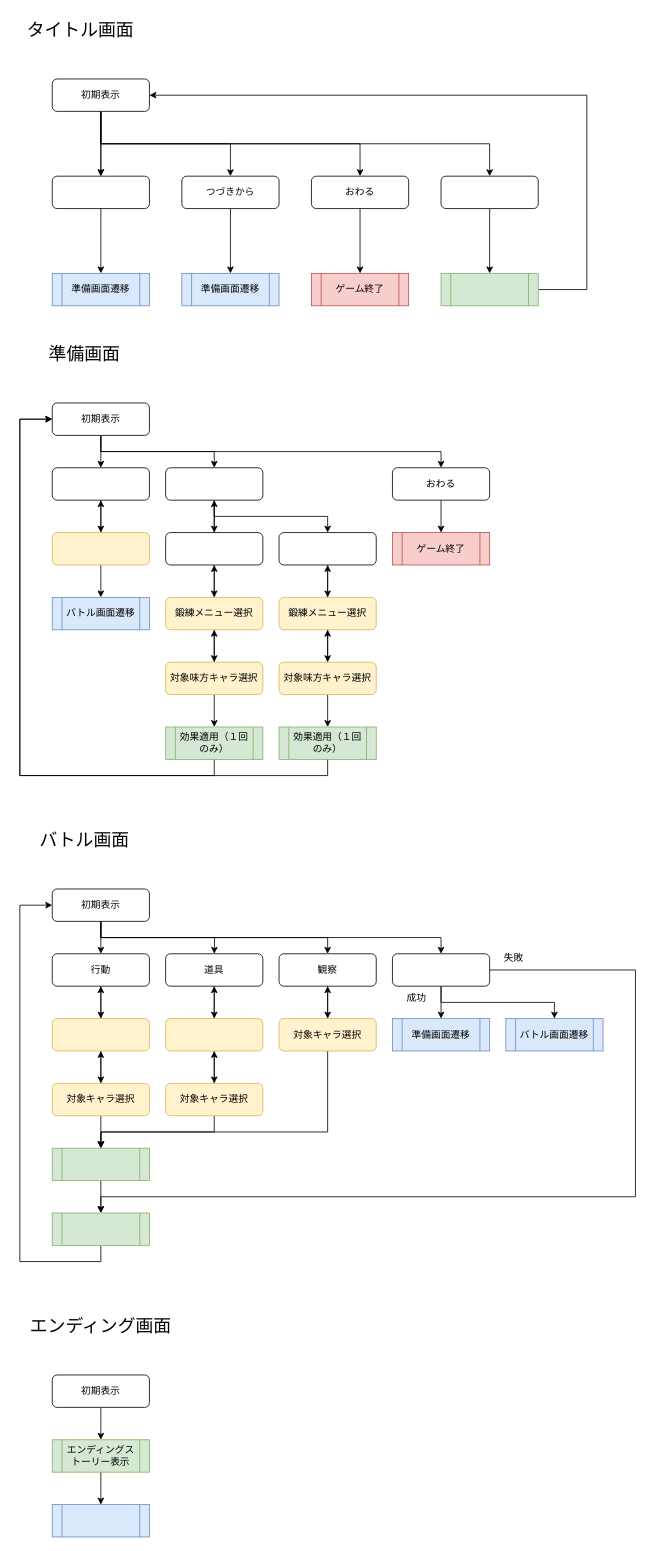
Image size: 656x1551. Some labels were removed from this diagram. Each missing label, with the centre of its shape:
にげる: the point at 441,969
はじめから: the point at 100,192
クレジット: the point at 489,192
クレジット表示: the point at 489,289
タイトル画面遷移: the point at 100,1520
出発: the point at 100,483
出発先選択: the point at 100,548
味方キャラ行動: the point at 100,1164
敵キャラ行動: the point at 100,1228
生活: the point at 327,548
育てる: the point at 214,483
行動選択: the point at 100,1034
道具選択: the point at 214,1034
鍛える: the point at 214,548
